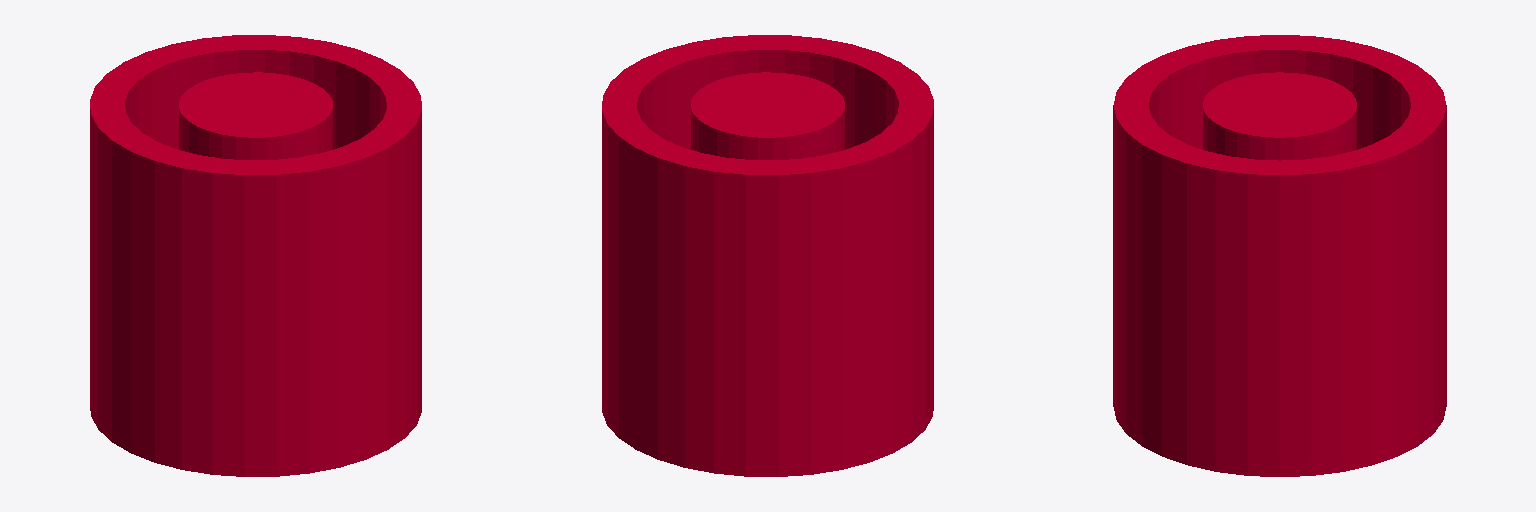
The model's file is orbital_cannon_beam_particle_shape.obj.
The picture shows the model from 3 angles: view 1: azimuth 30°, elevation 25°; view 2: azimuth 150°, elevation 25°; view 3: azimuth 270°, elevation 25°; orthographic projection.
Visible parts, largest first — view 1: Cylinder; view 2: Cylinder; view 3: Cylinder.
Part boxes in pixels (bbox=[...]): Cylinder: bbox=[90, 35, 421, 476]; Cylinder: bbox=[602, 35, 933, 476]; Cylinder: bbox=[1113, 35, 1446, 476].
Size of the model in its own units: 1 by 1 by 1.